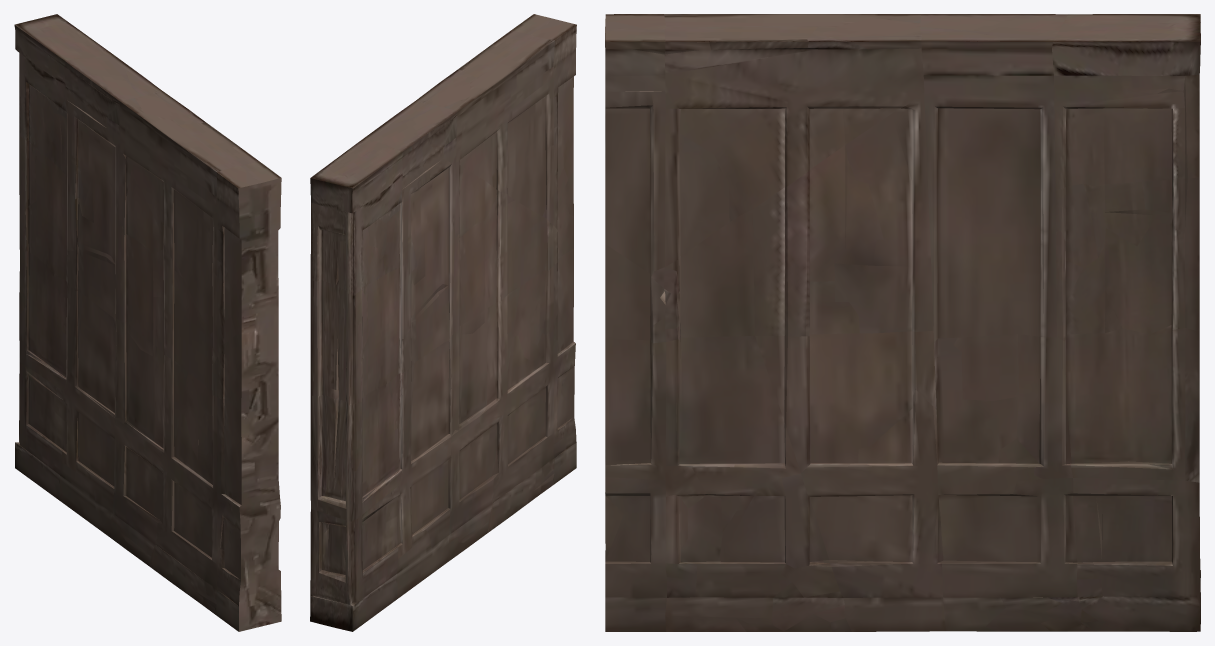
Rendered from SM_MuHuBan_A000C_VTWElementLookDev1_904877.glb.
3 views of the same model, side by side, from view 1: azimuth 30°, elevation 25°; view 2: azimuth 150°, elevation 25°; view 3: azimuth 270°, elevation 25° (orthographic). The views are drawn at different scales.
Parts seen in each view (by area): view 1: SM_MuHuBan_A000C_VTWElementLookDev1; view 2: SM_MuHuBan_A000C_VTWElementLookDev1; view 3: SM_MuHuBan_A000C_VTWElementLookDev1.
Boxes of the visible parts, x1=… form: SM_MuHuBan_A000C_VTWElementLookDev1: x1=14, y1=14, x2=281, y2=631; SM_MuHuBan_A000C_VTWElementLookDev1: x1=310, y1=14, x2=576, y2=631; SM_MuHuBan_A000C_VTWElementLookDev1: x1=605, y1=14, x2=1200, y2=631.
Size of the model in its own units: 0.1237 by 1.2 by 1.1.
1 material, 1 textured.
